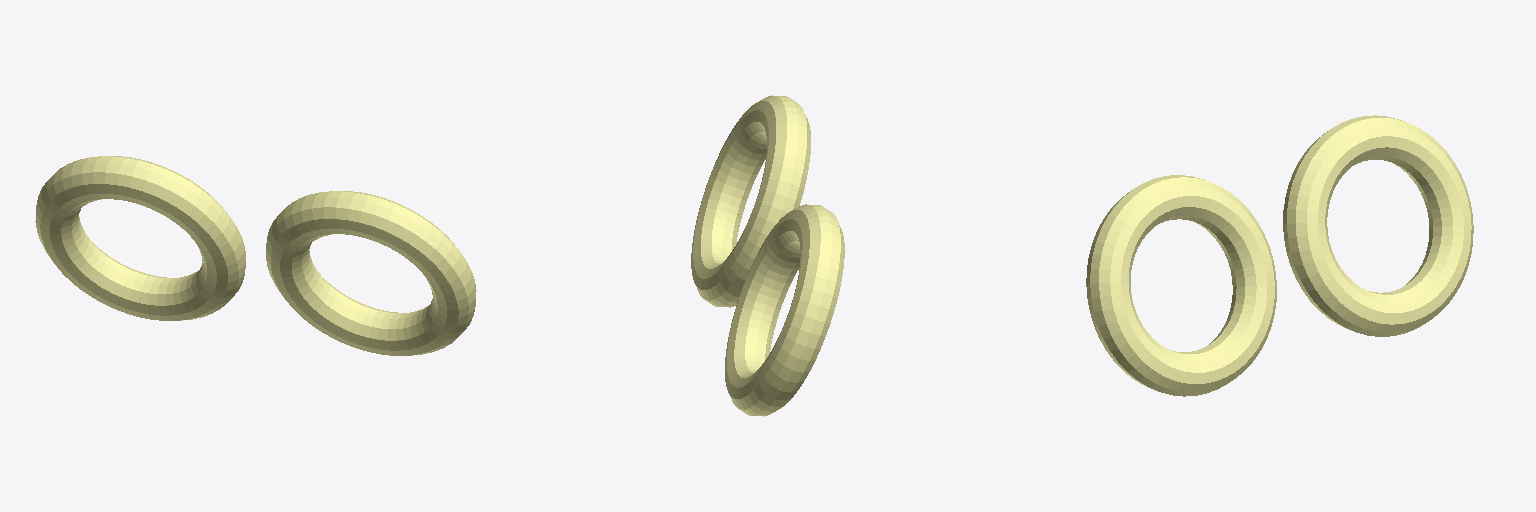
The picture shows the model from 3 angles: view 1: azimuth 30°, elevation 25°; view 2: azimuth 150°, elevation 25°; view 3: azimuth 270°, elevation 25°; orthographic projection.
Parts seen in each view (by area): view 1: トーラス, トーラス.001; view 2: トーラス, トーラス.001; view 3: トーラス.001, トーラス.
Part boxes in pixels (x1,y1,x2,y2): トーラス: (35,156,245,320); トーラス.001: (266,191,476,355); トーラス: (725,204,844,416); トーラス.001: (691,95,810,307); トーラス.001: (1086,175,1276,396); トーラス: (1283,115,1473,336).
Bounding box in the file's own units: 0.5388 × 0.3576 × 0.6539.
1 materials, 1 textured.